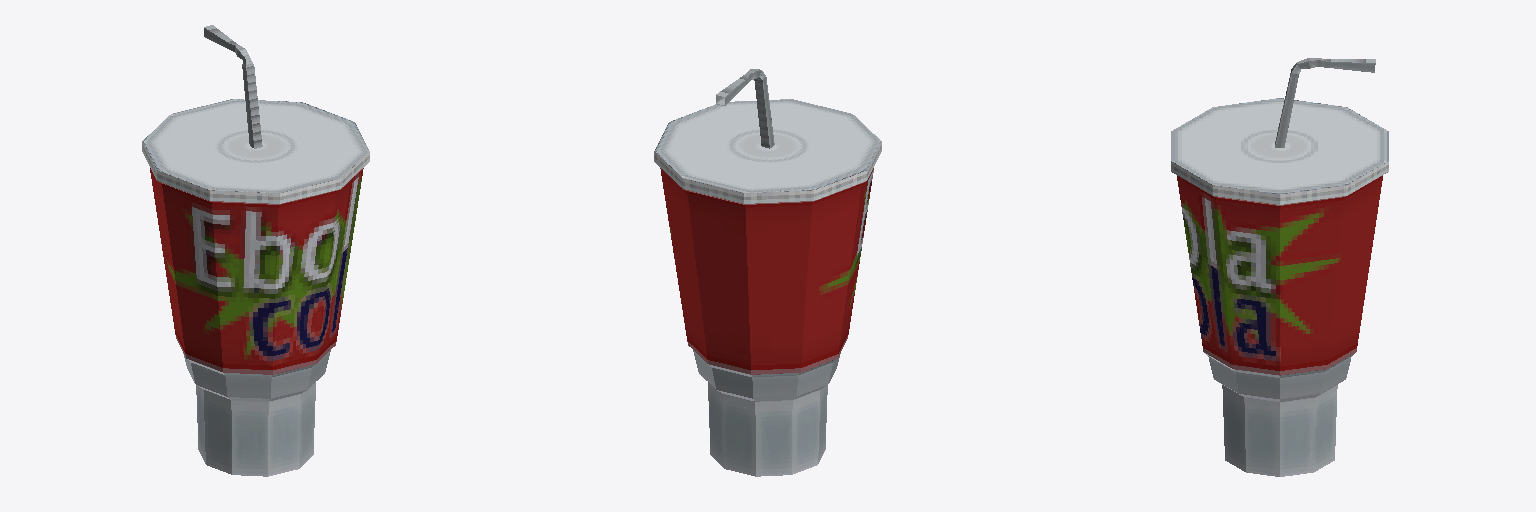
3 renders of one model, left to right at view 1: azimuth 30°, elevation 25°; view 2: azimuth 150°, elevation 25°; view 3: azimuth 270°, elevation 25°, orthographic.
Parts seen in each view (by area): view 1: big_gulp_of_pop_objShape; view 2: big_gulp_of_pop_objShape; view 3: big_gulp_of_pop_objShape.
Boxes of the visible parts, x1,y1,x2,y2 form: big_gulp_of_pop_objShape: [142, 25, 369, 476]; big_gulp_of_pop_objShape: [654, 69, 881, 476]; big_gulp_of_pop_objShape: [1171, 58, 1388, 476].
Size of the model in its own units: 0.5784 by 1.1 by 0.5501.
Materials: 1 (1 with a texture image).